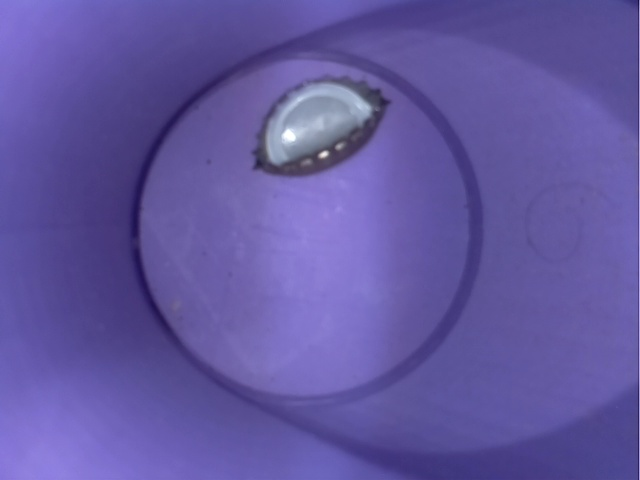capsule: (238, 57, 397, 183)
